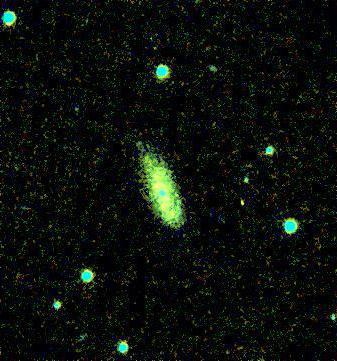star: (232, 189, 262, 219)
